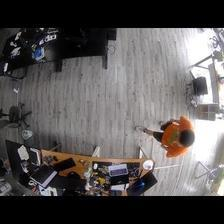normal: (135, 116, 195, 158)
